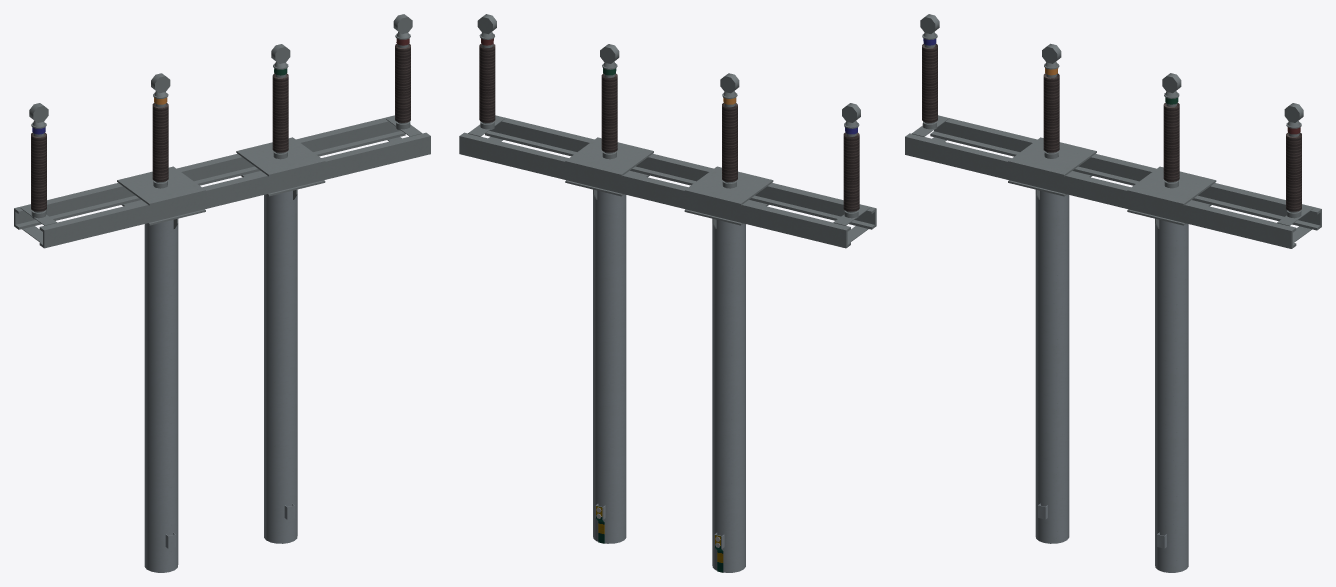
The model's file is JYZZZ.glb.
The picture shows the model from 3 angles, left to right: view 1: azimuth 30°, elevation 25°; view 2: azimuth 150°, elevation 25°; view 3: azimuth 330°, elevation 25°; orthographic projection.
Visible parts, largest first — view 1: SM-110KV_JYZZZ_38; view 2: SM-110KV_JYZZZ_38; view 3: SM-110KV_JYZZZ_38.
Part boxes in pixels (box(x1,y1,x2,y2)): SM-110KV_JYZZZ_38: box(14, 14, 430, 572); SM-110KV_JYZZZ_38: box(459, 14, 876, 572); SM-110KV_JYZZZ_38: box(905, 14, 1321, 572).
Size of the model in its own units: 6.34 by 7.68 by 0.9208.
Materials: 9 (9 with a texture image).
